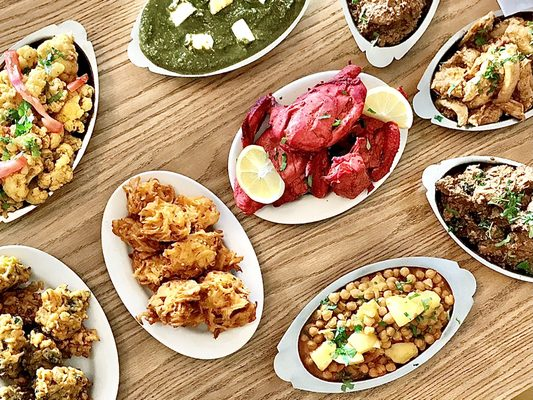sushi: (273, 256, 477, 394), (0, 19, 101, 221), (0, 244, 116, 400), (420, 156, 533, 284), (340, 0, 441, 69)
